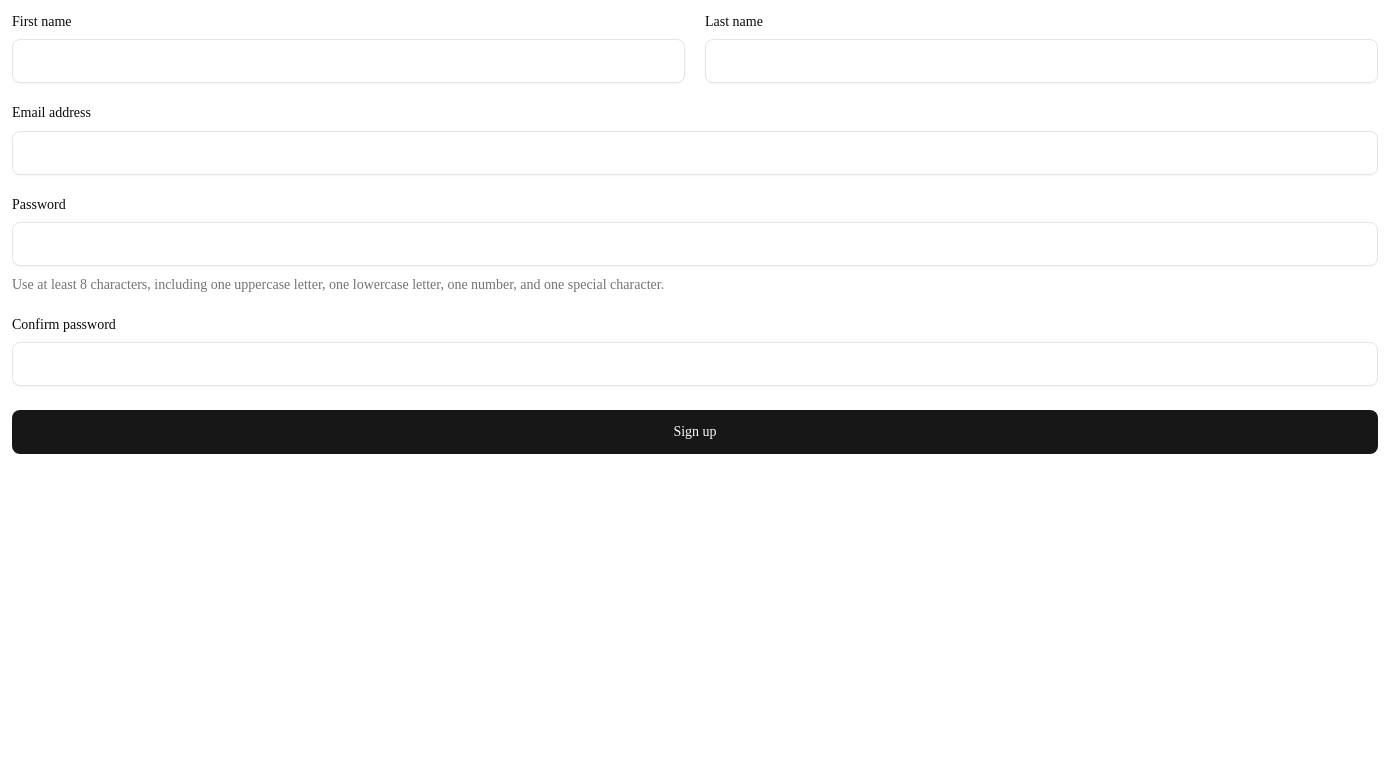
Scenario: SignUpForm › shows inline required errors and does not submit an empty form
Click the button "Sign up" at (695, 432), box [12,410,1378,454]
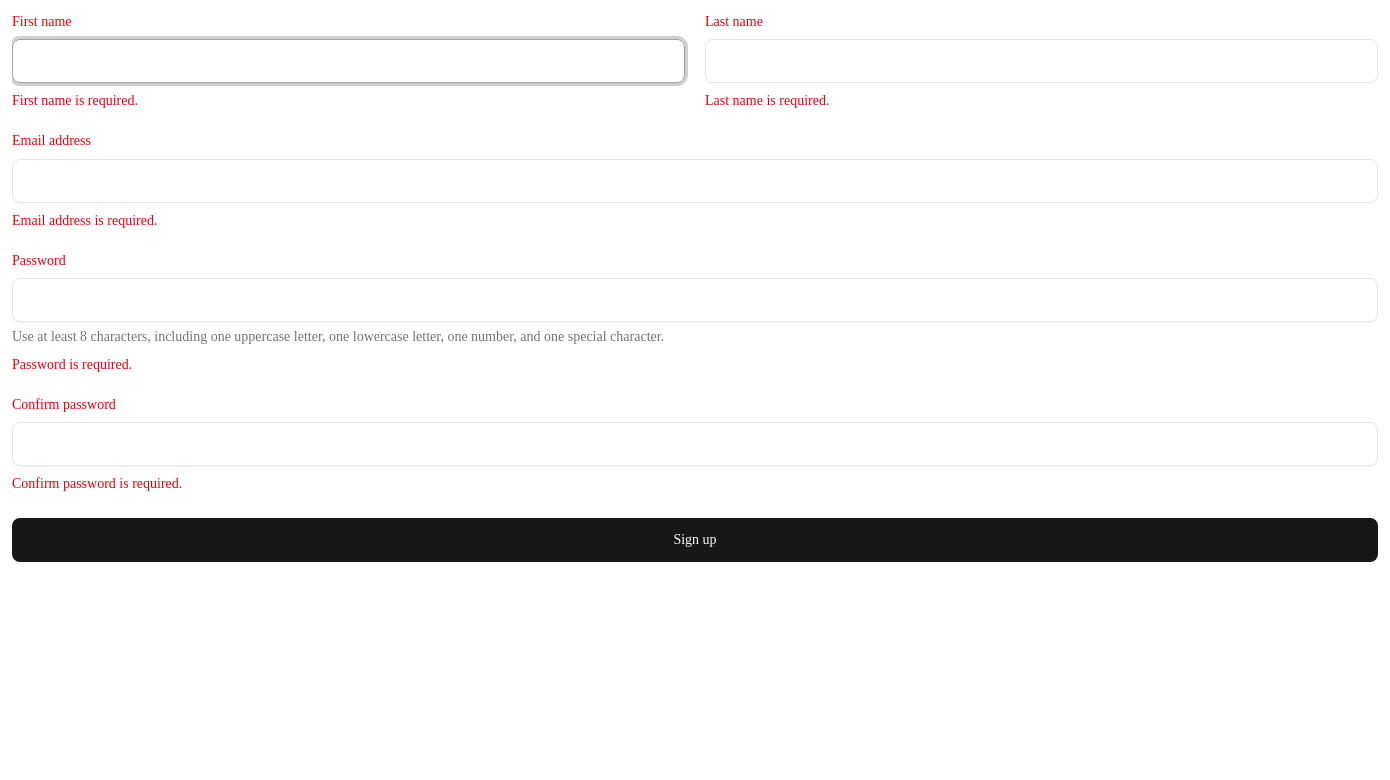
Now the text "First name is required." is shown, box [12,93,138,108]
Now the text "Last name is required." is shown, box [705,93,829,108]
Now the text "Email address is required." is shown, box [12,212,157,228]
